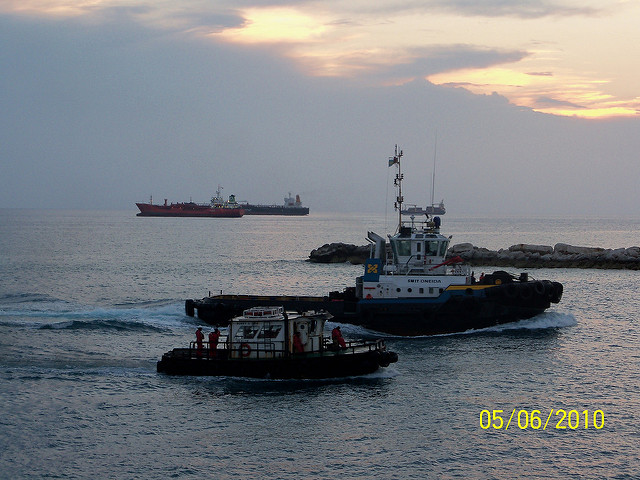boat: (155, 307, 399, 385)
bulk carrier: (134, 191, 247, 225)
tug_boat: (192, 163, 572, 335)
